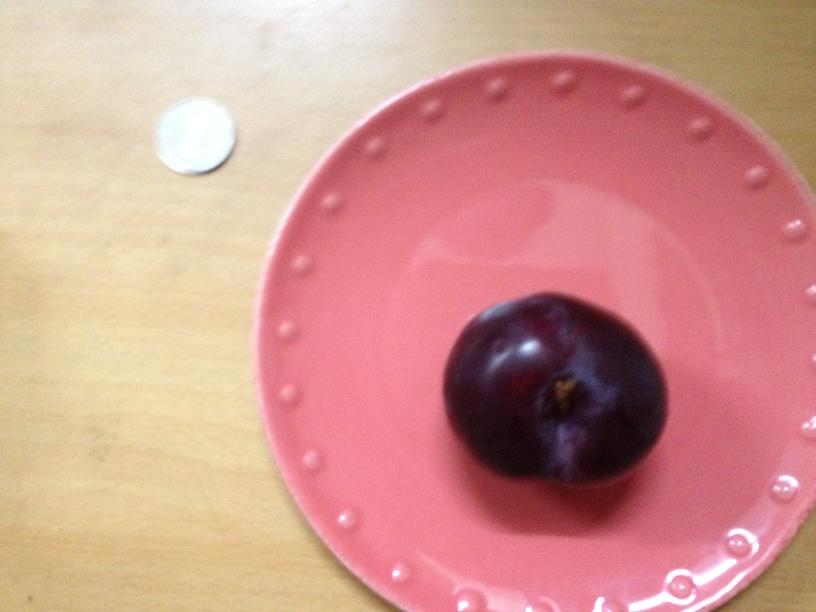coin: (153, 100, 237, 172)
plum: (434, 292, 669, 486)
